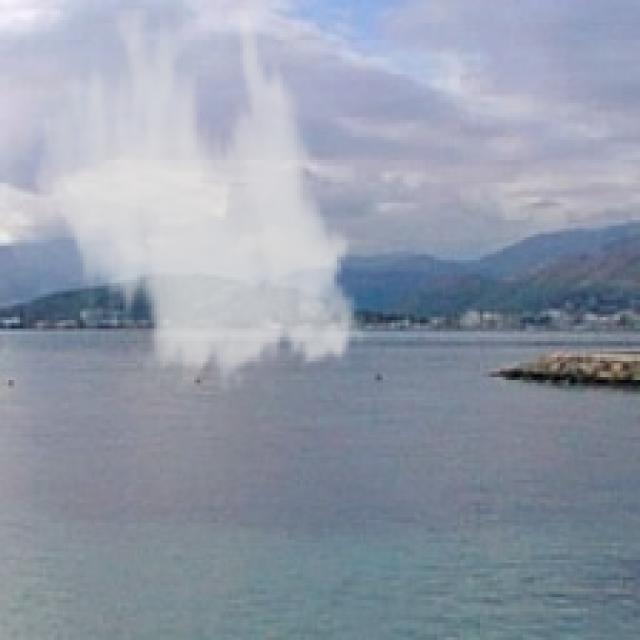Smoke: (22, 6, 374, 394)
